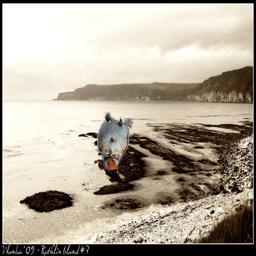Sparrow: (97, 111, 134, 170)
